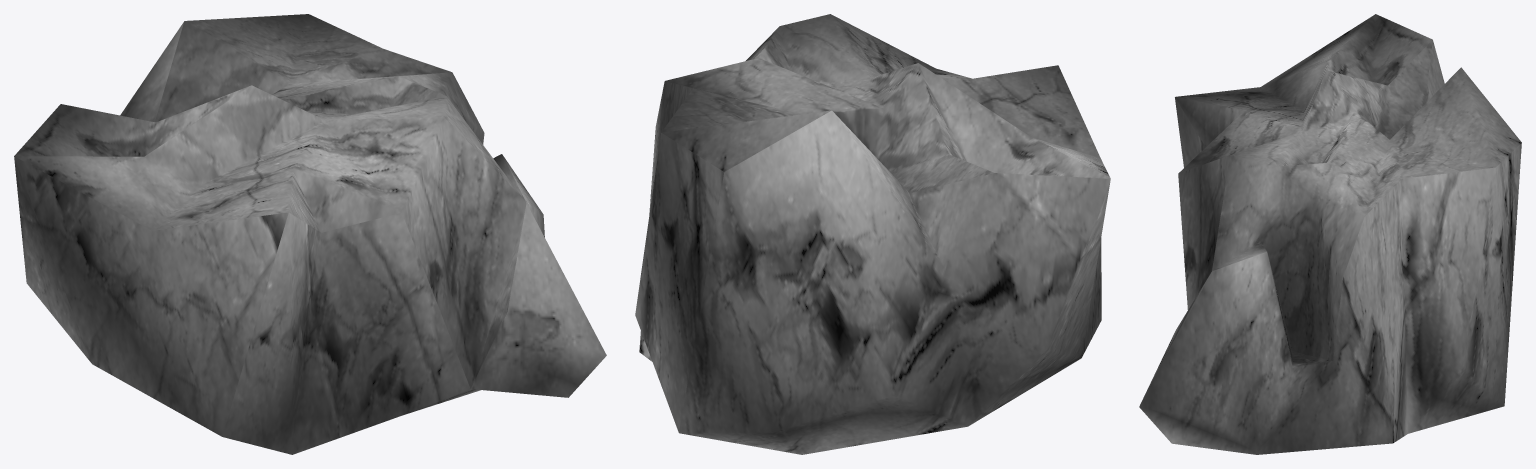
The model's file is ROCK_4.FBX.
3 renders of one model, left to right at view 1: azimuth 30°, elevation 25°; view 2: azimuth 150°, elevation 25°; view 3: azimuth 270°, elevation 25°, orthographic. The views are drawn at different scales.
Parts seen in each view (by area): view 1: 04; view 2: 04; view 3: 04.
Part boxes in pixels (<box>): 04: <box>14,14,606,454</box>; 04: <box>635,14,1110,454</box>; 04: <box>1139,14,1521,454</box>.
Size of the model in its own units: 759 by 533 by 611.
Materials: 1 (1 with a texture image).
